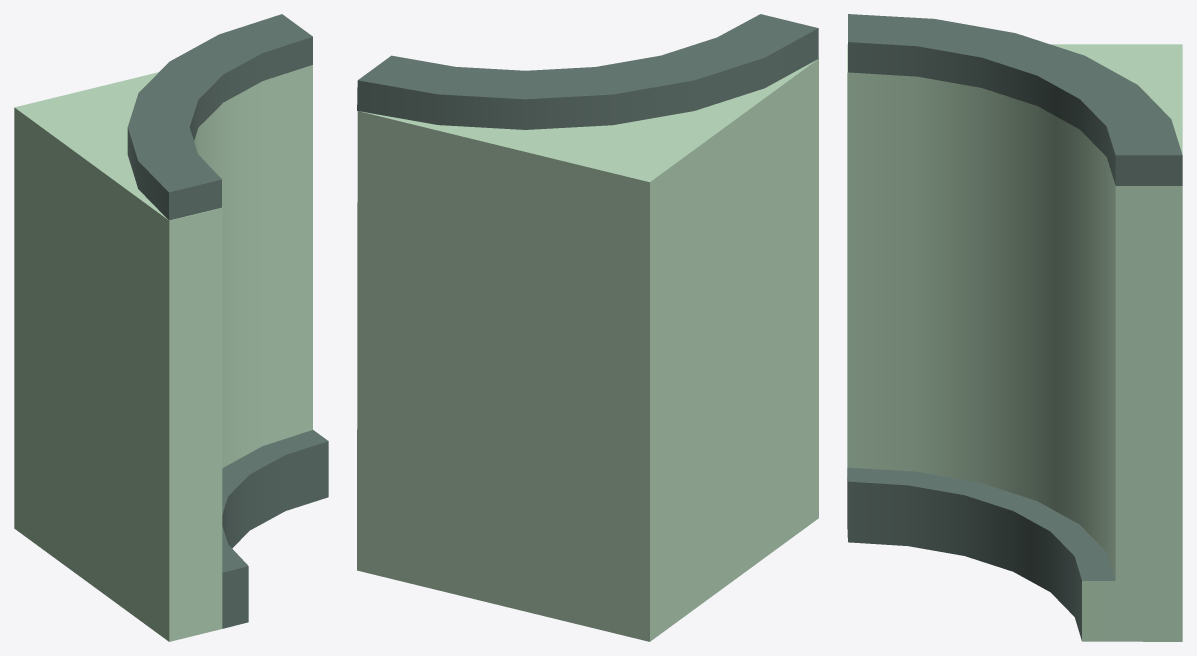
The model's file is GroundCircle90DegreesConvex.fbx.
The picture shows the model from 3 angles, left to right: view 1: azimuth 30°, elevation 25°; view 2: azimuth 150°, elevation 25°; view 3: azimuth 270°, elevation 25°; orthographic projection. The views are drawn at different scales.
Visible parts, largest first — view 1: GroundCircle90Degrees.001; view 2: GroundCircle90Degrees.001; view 3: GroundCircle90Degrees.001.
Boxes of the visible parts, x1=… form: GroundCircle90Degrees.001: x1=14, y1=14, x2=328, y2=641; GroundCircle90Degrees.001: x1=357, y1=14, x2=818, y2=641; GroundCircle90Degrees.001: x1=847, y1=14, x2=1182, y2=641.
Size of the model in its own units: 1 by 1.6 by 1.
